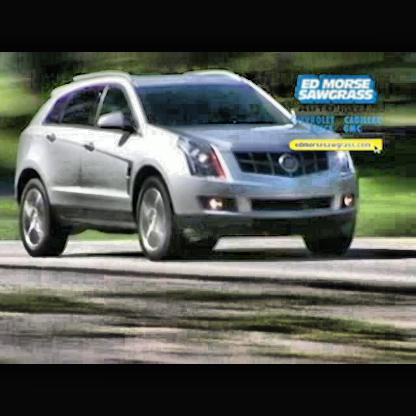Cadillac SRX SUV 2012: (16, 70, 361, 264)
